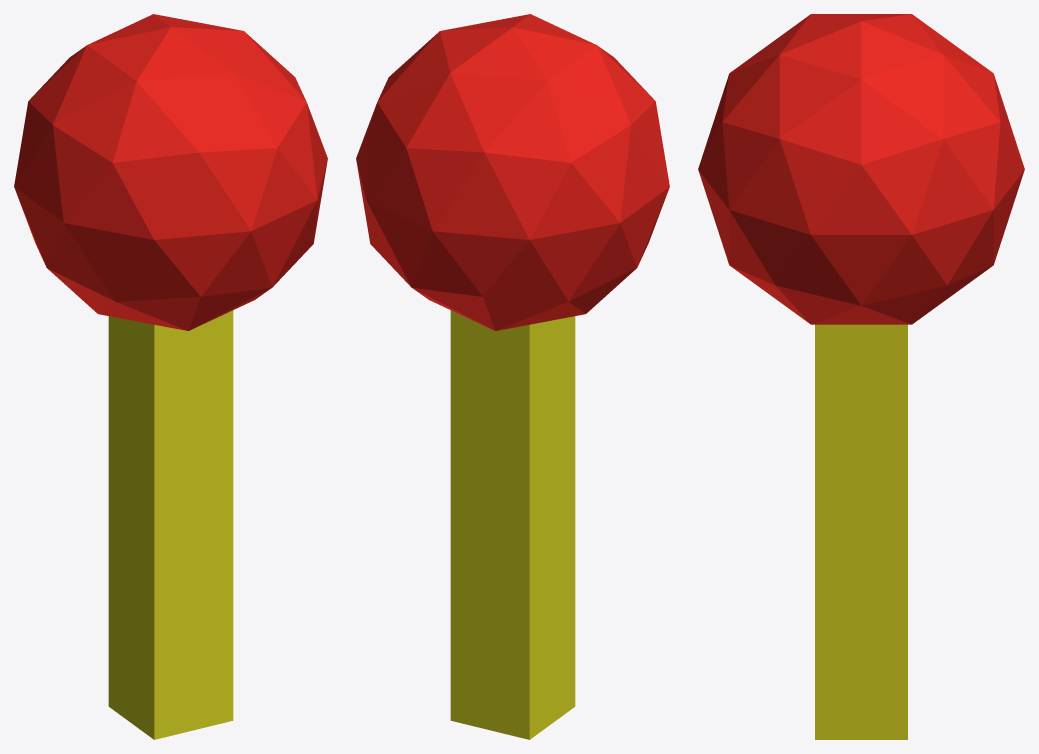
File: joystick.fbx
3 renders of one model, left to right at view 1: azimuth 30°, elevation 25°; view 2: azimuth 150°, elevation 25°; view 3: azimuth 270°, elevation 25°, orthographic.
Visible parts, largest first — view 1: Joystick; view 2: Joystick; view 3: Joystick.
Boxes of the visible parts, x1,y1,x2,y2 form: Joystick: [14, 14, 327, 739]; Joystick: [356, 14, 669, 739]; Joystick: [698, 14, 1024, 739].
Bounding box in the file's own units: 7.21 × 17.88 × 7.58.
